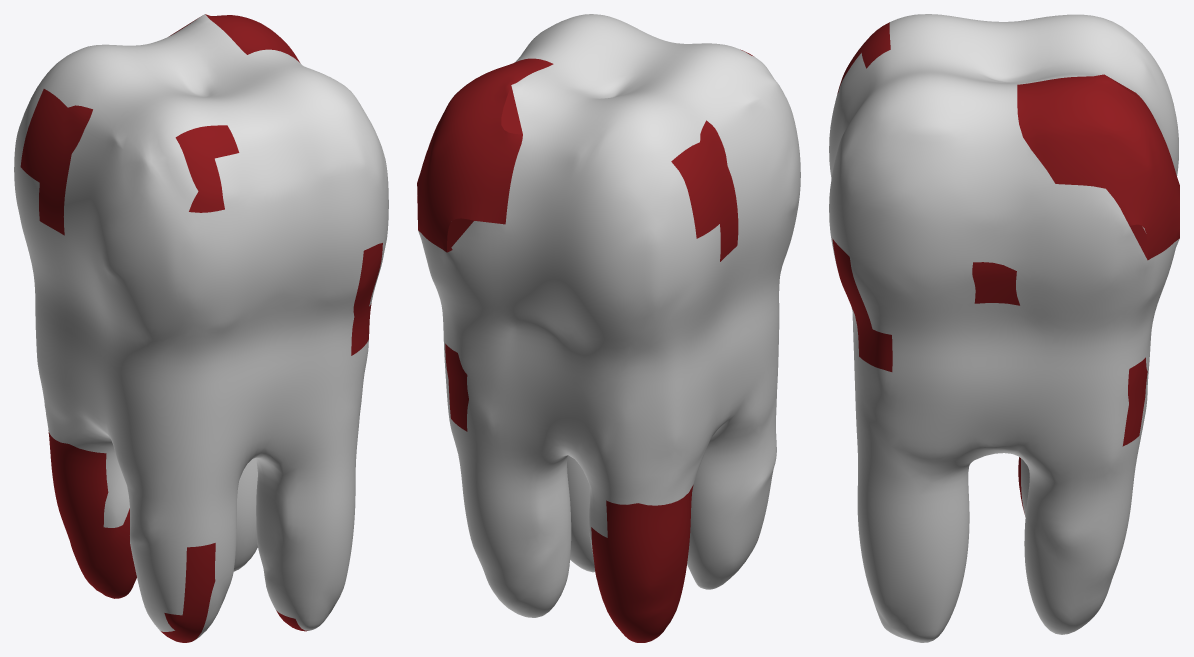
The model's file is tooth.fbx.
The picture shows the model from 3 angles, left to right: view 1: azimuth 30°, elevation 25°; view 2: azimuth 150°, elevation 25°; view 3: azimuth 270°, elevation 25°; orthographic projection. The views are drawn at different scales.
Visible parts, largest first — view 1: Mball.009; view 2: Mball.009; view 3: Mball.009.
Part boxes in pixels (x1=…): Mball.009: x1=14, y1=14, x2=388, y2=642; Mball.009: x1=417, y1=14, x2=800, y2=642; Mball.009: x1=829, y1=14, x2=1179, y2=642.
Size of the model in its own units: 303 by 572 by 323.
